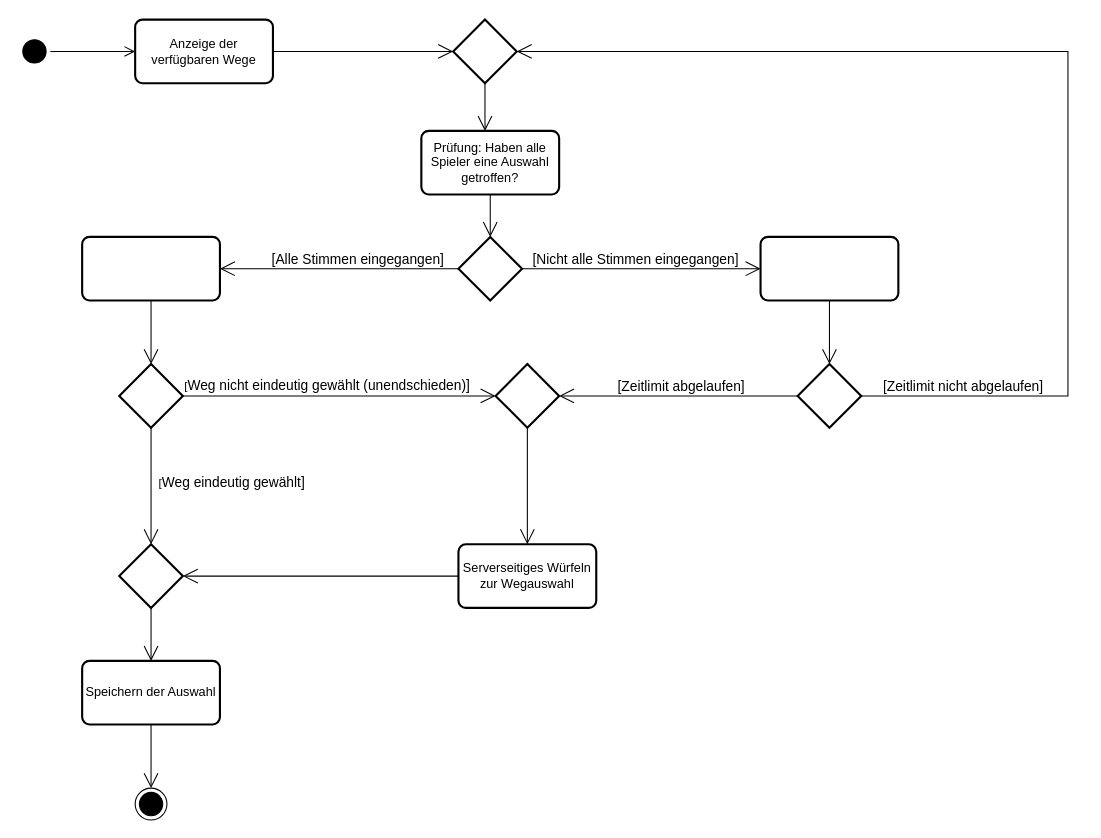
The diagram is 1101 pixels wide and 838 high, and some of its shapes have lost their labels. The shapes that lost their labels are listed below. From the top down, each one's centre as x and y in pixels, then its label:
(150,268): Prüfung: Eindeutige Wegauswahl getroffen?
(829,268): Prüfung: Zeitlimit abgelaufen?
